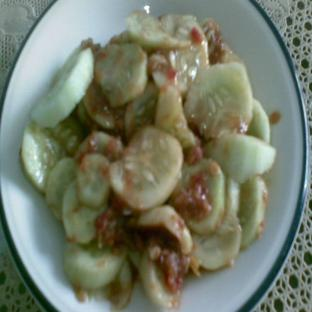Cucumber: (110, 127, 183, 210), (185, 63, 252, 139), (32, 47, 93, 127), (172, 159, 225, 235), (205, 134, 276, 183), (95, 44, 147, 107), (21, 122, 65, 193), (193, 211, 241, 270), (64, 243, 125, 289), (62, 181, 105, 243), (138, 206, 192, 254), (155, 85, 195, 148), (126, 12, 191, 50), (140, 252, 178, 308), (239, 176, 267, 248), (125, 83, 159, 139), (46, 158, 77, 219), (77, 154, 110, 209), (76, 131, 123, 160), (48, 117, 83, 155), (110, 260, 132, 310), (247, 99, 270, 143), (226, 178, 240, 214)
